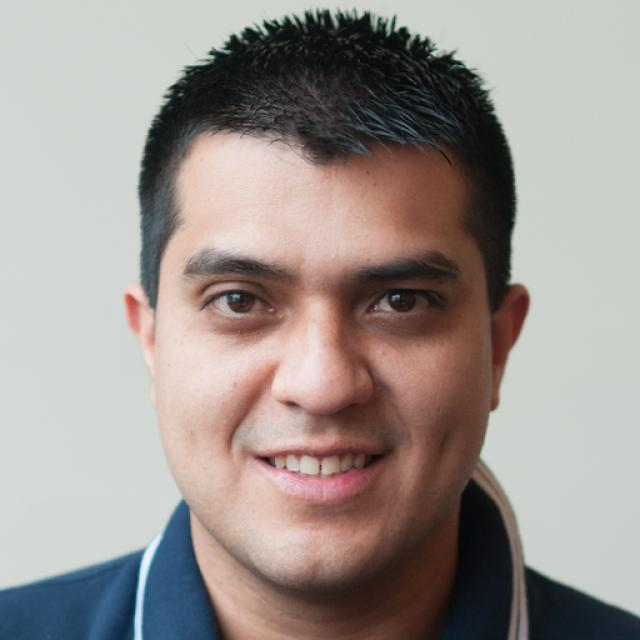Dark Circle: (208, 314, 287, 343), (358, 315, 437, 343)
